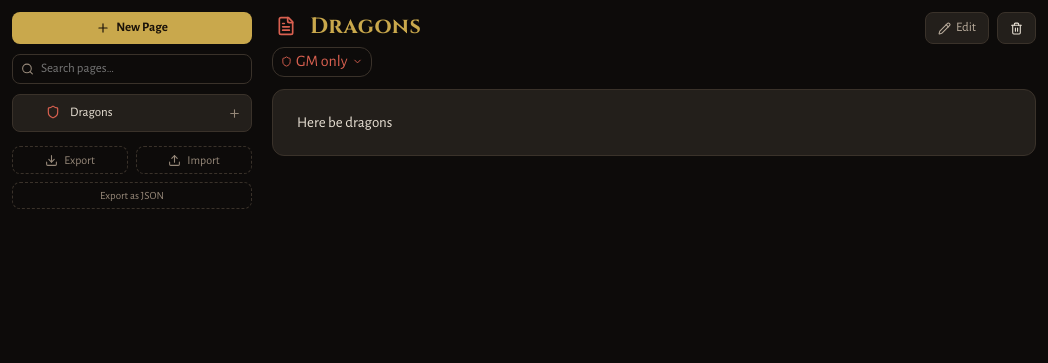
Test: WikiView quick icon picker › opens the icon picker from a sidebar row without re-selecting the page
Expected: the text "Here be dragons" is shown, 297,115 -> 392,130
# The sidebar icon trigger carries the wiki icon aria-label.
Click the 2nd button named "Icon" at (53, 112), box 42,102 -> 64,122
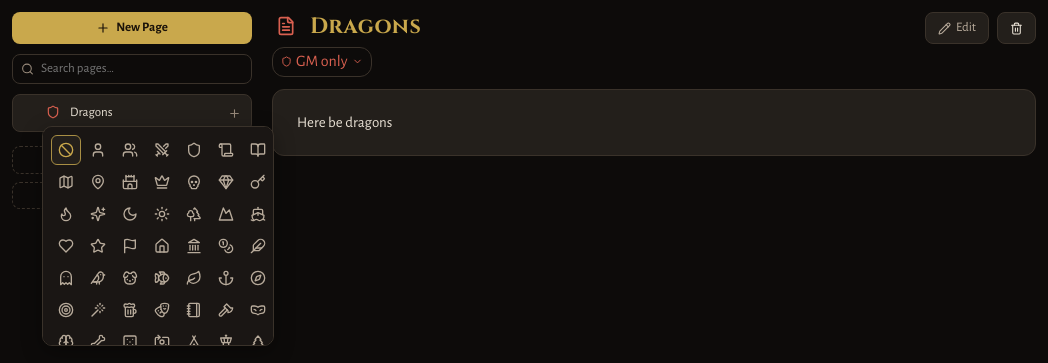
Expected: the button named "No icon" is shown, 51,135 -> 81,165
